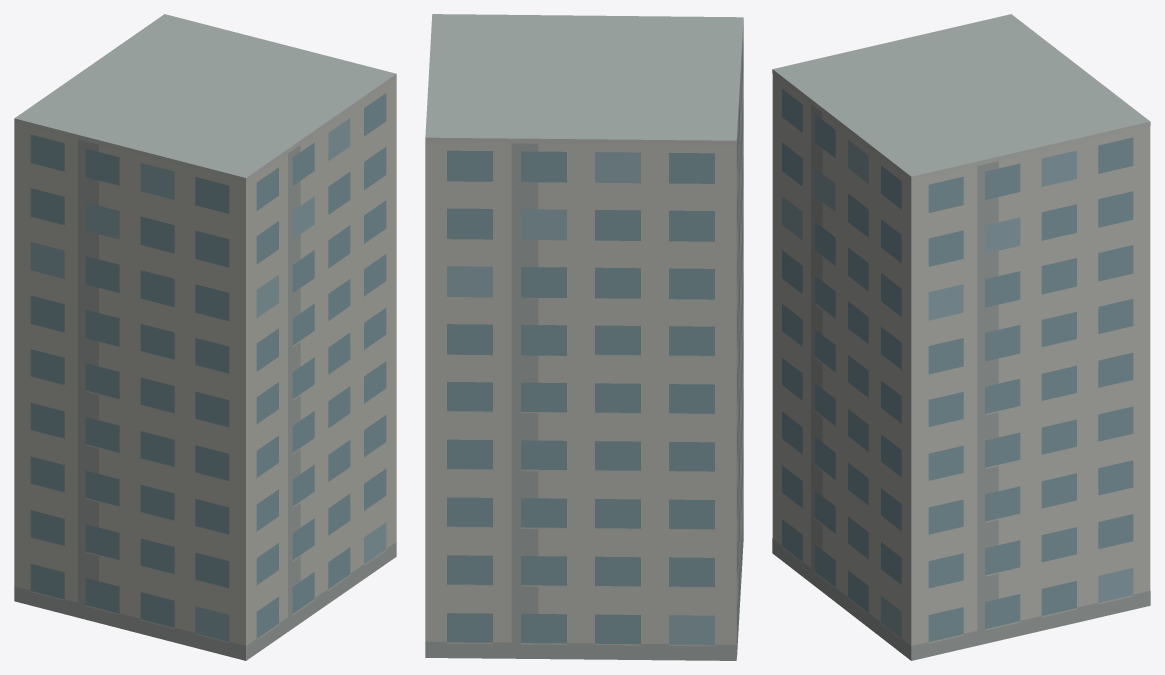
Rendered from residential-d4d573e7-6cb7-41f4-8908-7495e8180f70.glb.
The picture shows the model from 3 angles, left to right: view 1: azimuth 30°, elevation 25°; view 2: azimuth 150°, elevation 25°; view 3: azimuth 270°, elevation 25°; orthographic projection. The views are drawn at different scales.
Visible parts, largest first — view 1: residential-d4d573e7-6cb7-41f4-8908-7495e8180f70.tmp; view 2: residential-d4d573e7-6cb7-41f4-8908-7495e8180f70.tmp; view 3: residential-d4d573e7-6cb7-41f4-8908-7495e8180f70.tmp.
Boxes of the visible parts, x1,y1,x2,y2 form: residential-d4d573e7-6cb7-41f4-8908-7495e8180f70.tmp: [14, 14, 396, 660]; residential-d4d573e7-6cb7-41f4-8908-7495e8180f70.tmp: [425, 14, 743, 660]; residential-d4d573e7-6cb7-41f4-8908-7495e8180f70.tmp: [772, 14, 1150, 660].
Size of the model in its own units: 18.75 by 26 by 18.4.
